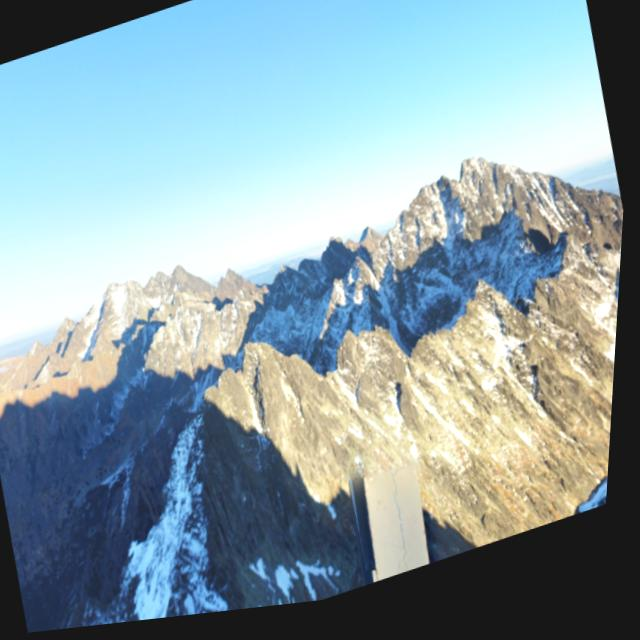Bradavica: (309, 213, 358, 265)
Ganek: (173, 276, 317, 418)
Gerlachovsky Stit: (392, 95, 537, 229)
Lomnicki Stit: (140, 226, 215, 304)
Slavkovsky Stit: (336, 196, 401, 264)
